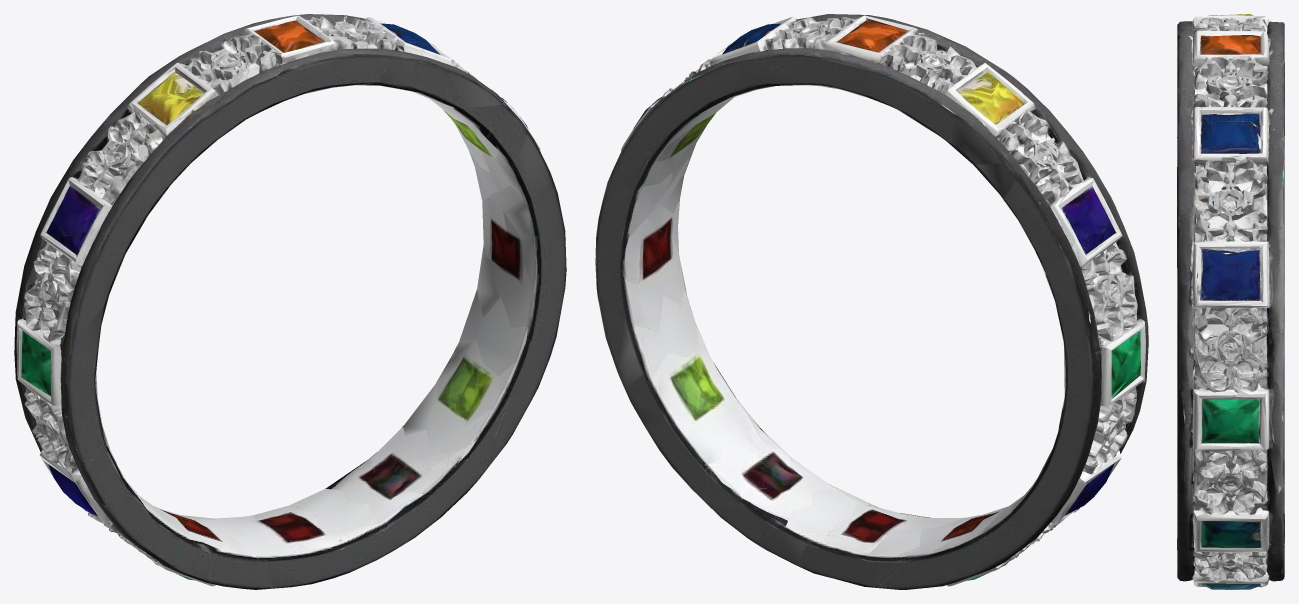
File: covenant-ring-v1.glb
The picture shows the model from 3 angles, left to right: view 1: azimuth 30°, elevation 25°; view 2: azimuth 150°, elevation 25°; view 3: azimuth 270°, elevation 25°; orthographic projection. The views are drawn at different scales.
Visible parts, largest first — view 1: Mesh_0; view 2: Mesh_0; view 3: Mesh_0.
Part boxes in pixels (<box>): Mesh_0: <box>14,14,566,589</box>; Mesh_0: <box>595,14,1148,589</box>; Mesh_0: <box>1177,14,1284,589</box>.
Bounding box in the file's own units: 1.9 × 1.9 × 0.3542.
Materials: 1 (1 with a texture image).
